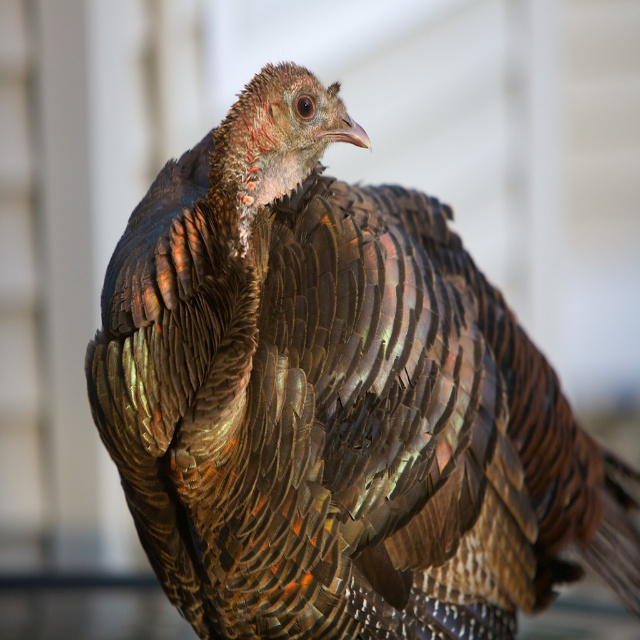Turkey: (83, 57, 640, 640)
